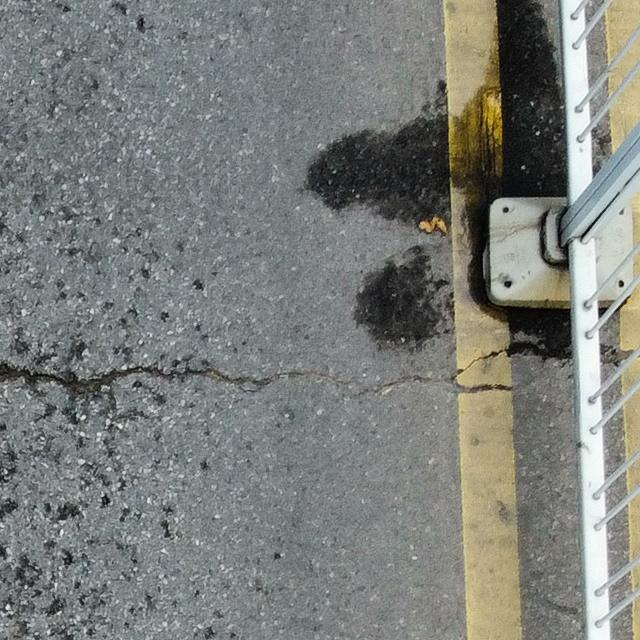TransverseCrack: (1, 341, 560, 396)
